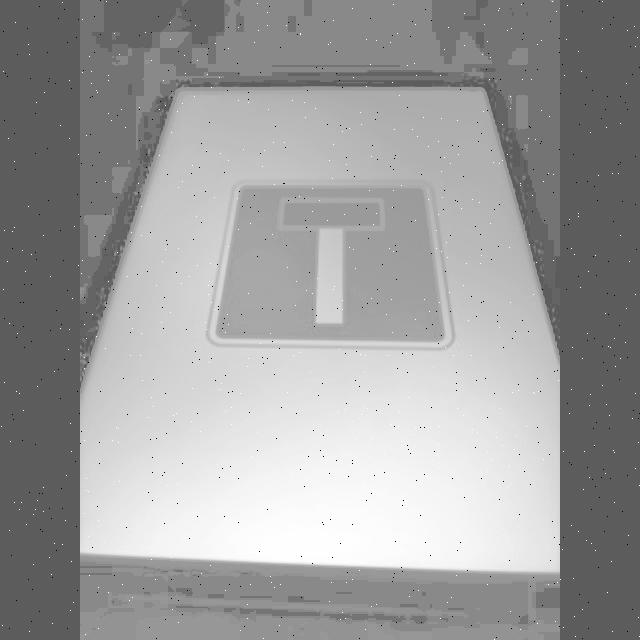DEAD END: (207, 178, 457, 356)
